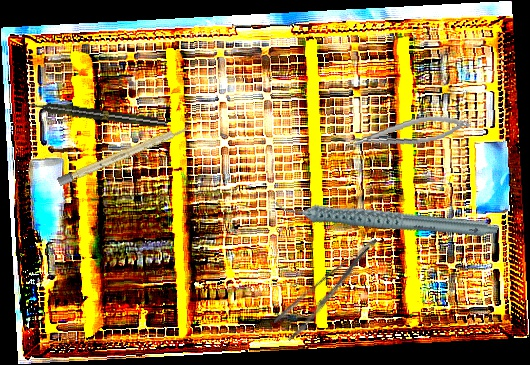Dressing Forceps: (271, 236, 392, 342)
Handpiece: (273, 152, 500, 281), (25, 98, 169, 130)
Needle Holder: (342, 111, 473, 153)
Scalpel Handle: (56, 122, 192, 187)
